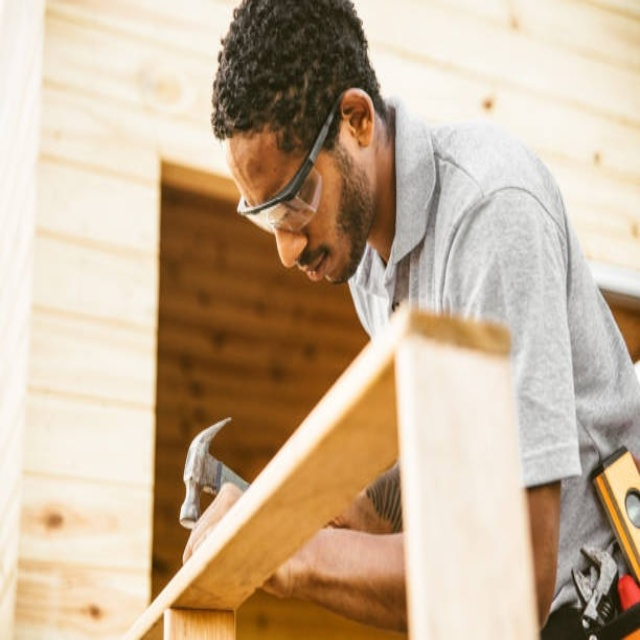Gafas: (236, 95, 340, 234)
Sin_mascara: (298, 237, 346, 293)
